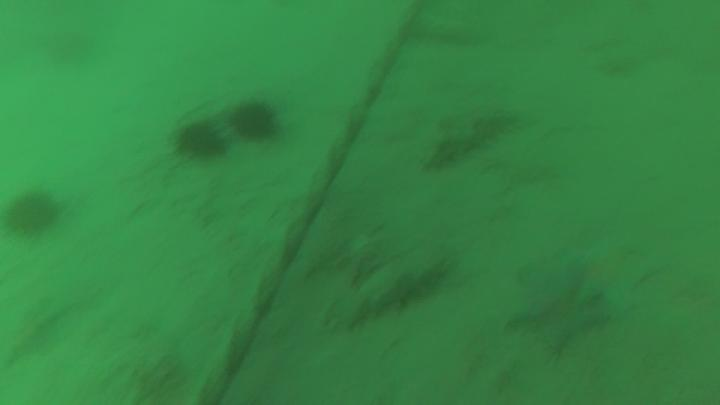echinus: (5, 191, 58, 234), (231, 104, 276, 145), (179, 126, 229, 160)
holothurian: (334, 252, 450, 328), (423, 105, 527, 168)
starfish: (510, 272, 606, 352), (572, 240, 662, 314)
